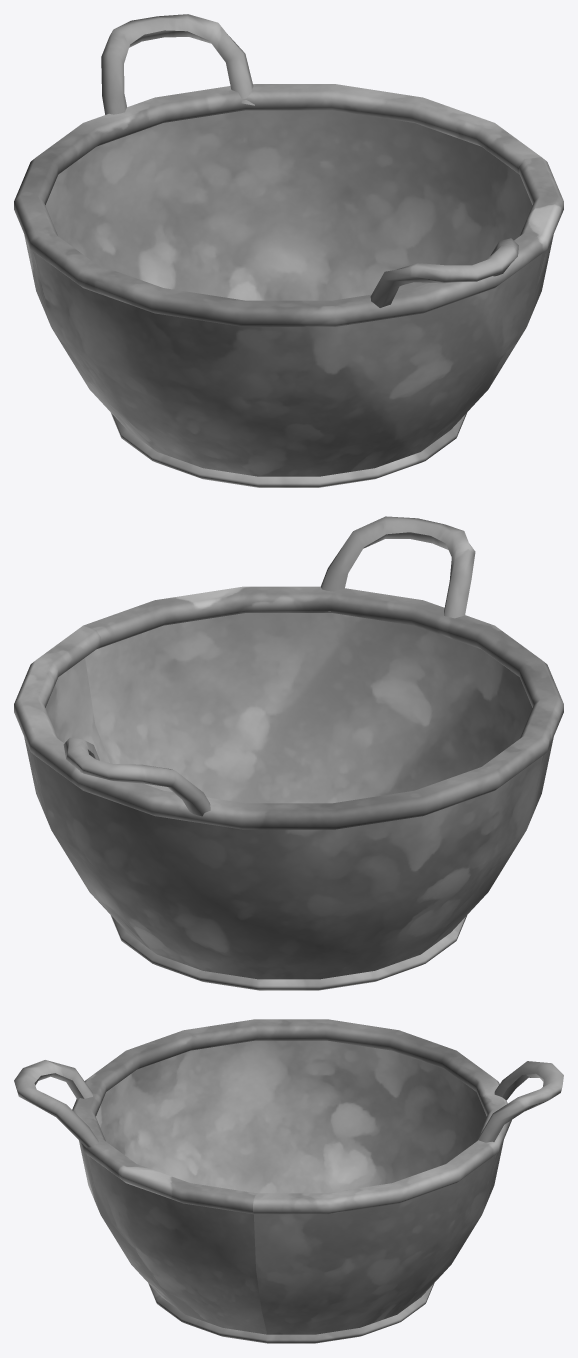
Rendered from SM_WickerBasket_01c.fbx.
3 views of the same model, one above another, from view 1: azimuth 30°, elevation 25°; view 2: azimuth 150°, elevation 25°; view 3: azimuth 270°, elevation 25° (orthographic). The views are drawn at different scales.
Visible parts, largest first — view 1: SM_WickerBasket_01c_LOD0; view 2: SM_WickerBasket_01c_LOD0; view 3: SM_WickerBasket_01c_LOD0.
Part boxes in pixels (box(x1,y1,x2,y2)): SM_WickerBasket_01c_LOD0: box(14, 14, 563, 487); SM_WickerBasket_01c_LOD0: box(14, 516, 563, 990); SM_WickerBasket_01c_LOD0: box(14, 1019, 563, 1343).
Size of the model in its own units: 56.64 by 71.65 by 31.29.
